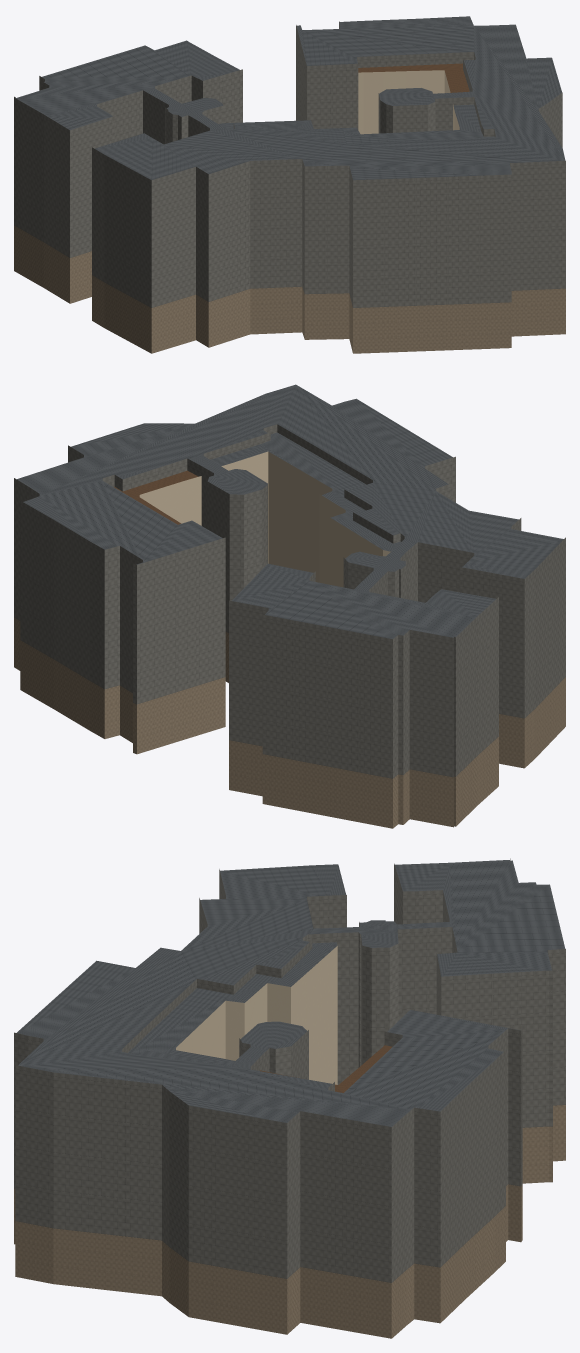
The model's file is bld_c-1_0_536.gltf.
3 views of the same model, one above another, from view 1: azimuth 30°, elevation 25°; view 2: azimuth 150°, elevation 25°; view 3: azimuth 270°, elevation 25° (orthographic). The views are drawn at different scales.
Parts seen in each view (by area): view 1: bld_c-1_0_536; view 2: bld_c-1_0_536; view 3: bld_c-1_0_536.
Part boxes in pixels (x1,y1,x2,y2): bld_c-1_0_536: (14,16,565,353); bld_c-1_0_536: (14,384,565,828); bld_c-1_0_536: (14,858,565,1338).
Size of the model in its own units: 52.98 by 19.68 by 45.79.
Materials: 7 (7 with a texture image).
